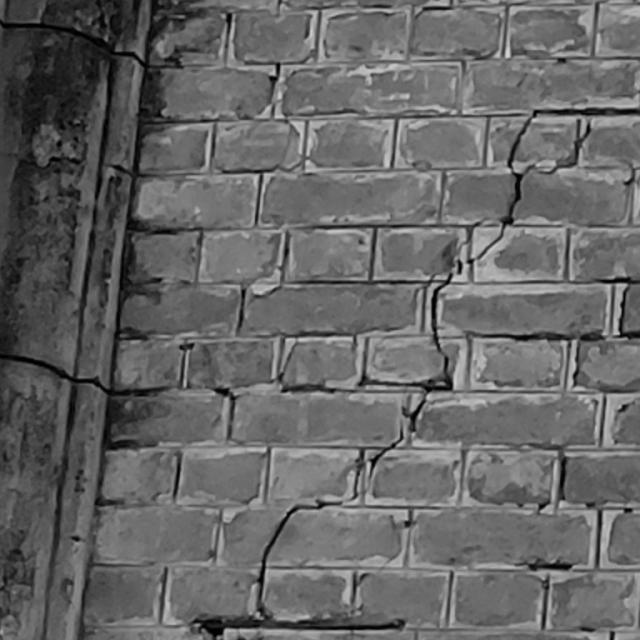crack: (188, 109, 592, 640)
